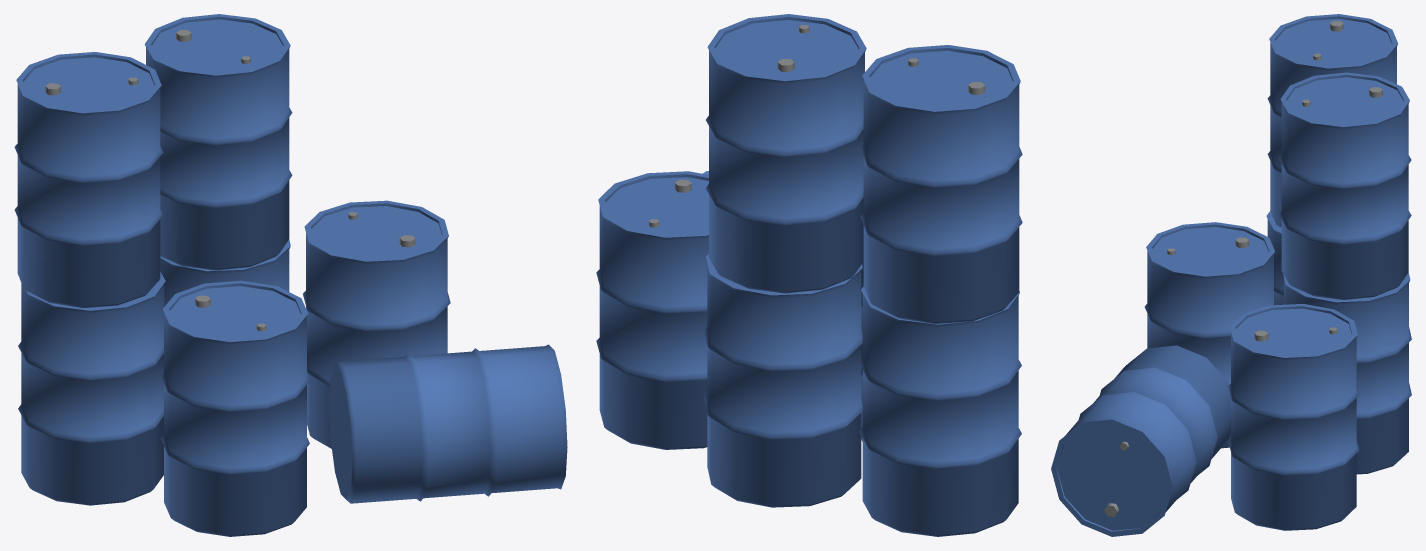
File: blue_barrel_group.glb
3 renders of one model, left to right at view 1: azimuth 30°, elevation 25°; view 2: azimuth 150°, elevation 25°; view 3: azimuth 270°, elevation 25°, orthographic. The views are drawn at different scales.
Parts seen in each view (by area): view 1: paint_blue__blue_barrel_group__solid, steel__blue_barrel_group__ns; view 2: paint_blue__blue_barrel_group__solid, steel__blue_barrel_group__ns; view 3: paint_blue__blue_barrel_group__solid, steel__blue_barrel_group__ns.
Part boxes in pixels (box(x1,y1,x2,y2)): paint_blue__blue_barrel_group__solid: box(14, 14, 567, 536); steel__blue_barrel_group__ns: box(45, 30, 415, 331); paint_blue__blue_barrel_group__solid: box(596, 14, 1022, 536); steel__blue_barrel_group__ns: box(649, 25, 985, 227); paint_blue__blue_barrel_group__solid: box(1051, 14, 1411, 536); steel__blue_barrel_group__ns: box(1104, 21, 1382, 517).
Size of the model in its own units: 2 by 1.77 by 1.65.
